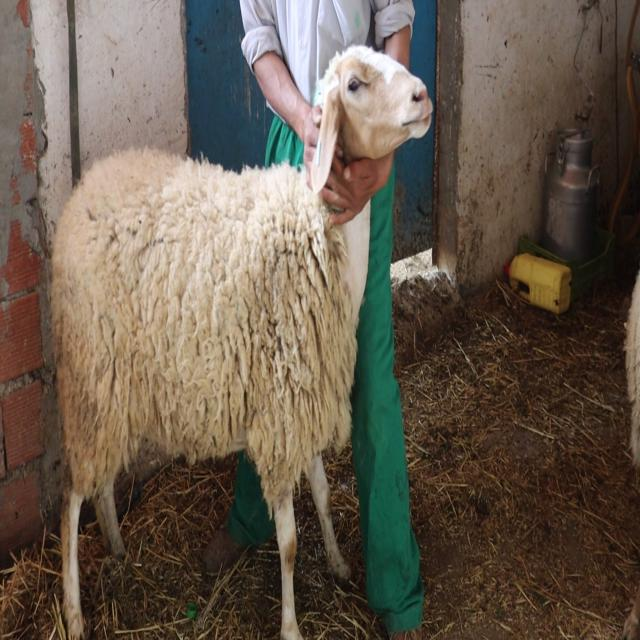Score_4: (51, 46, 432, 639)
